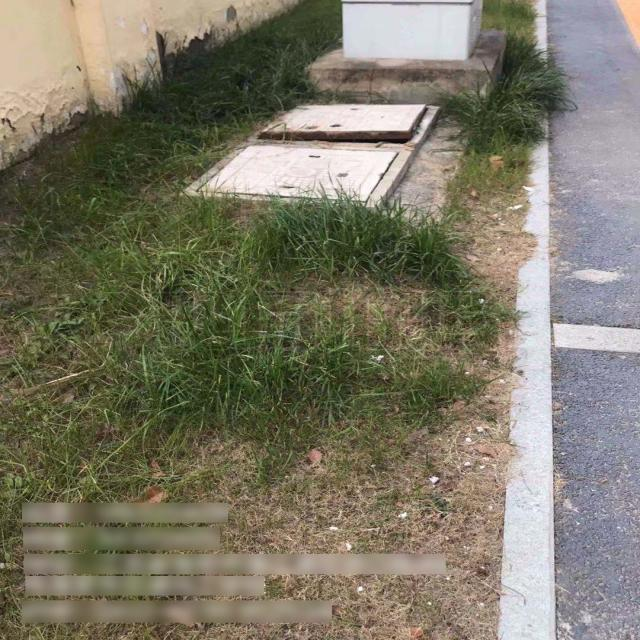Good: (179, 142, 414, 210)
Lose: (250, 102, 439, 145)
